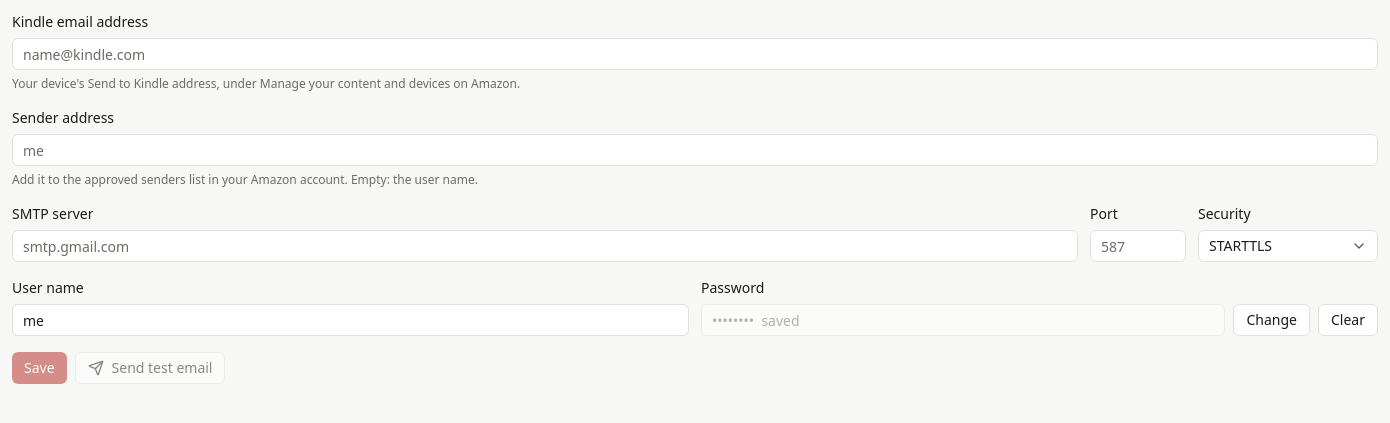
Test: email settings › changes the password through set_smtp_password, never the settings
The width and height of the screenshot is (1390, 423).
Click the button "Change" at (1272, 320), box [1234,304,1310,336]
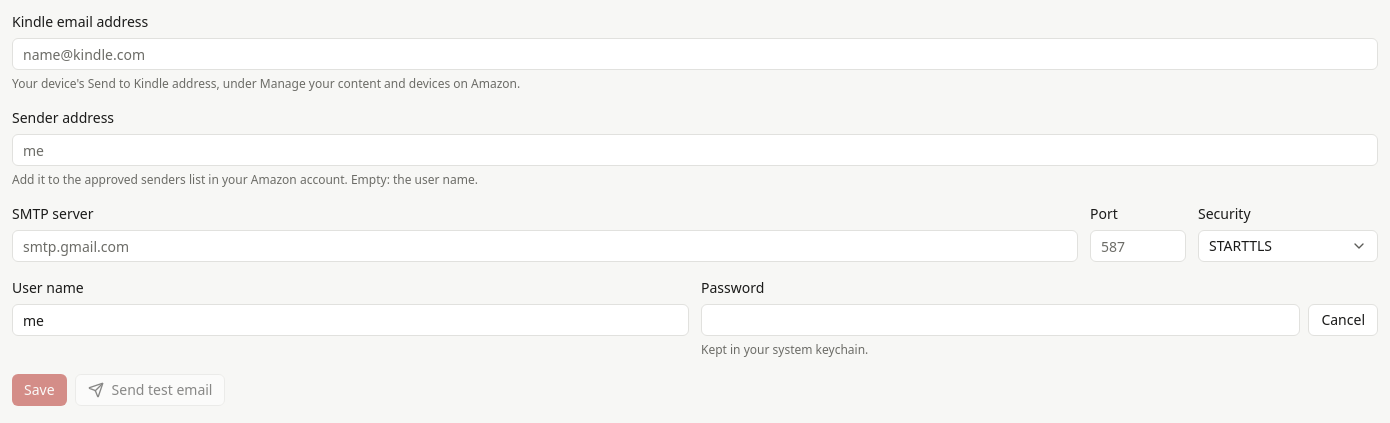
Result: the password field labelled "Password" is enabled
Type "new-secret" into the password field labelled "Password" at (1001, 320), box [701,304,1300,336]
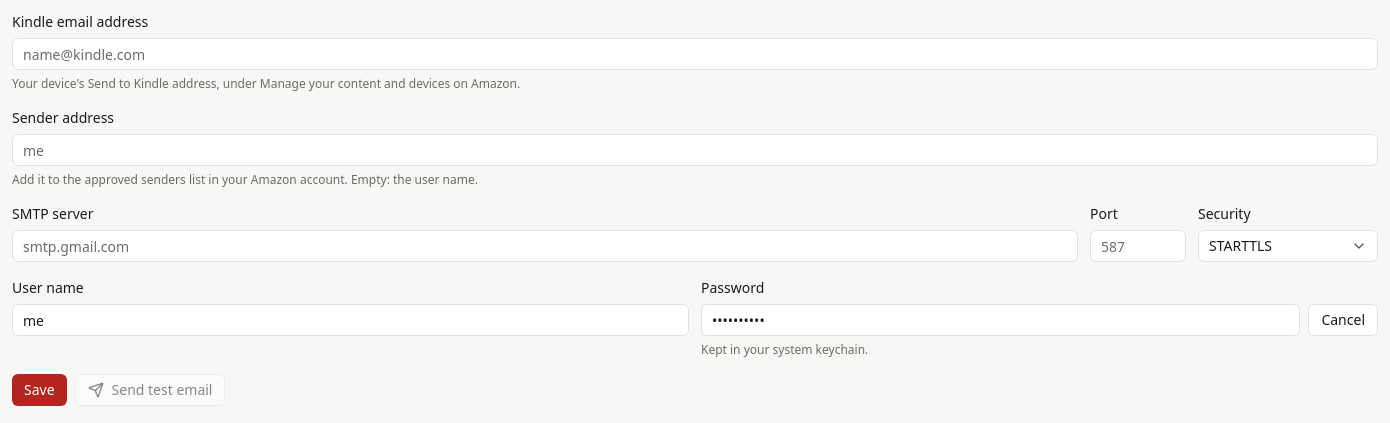
Click the button "Save" at (39, 390), box [12,374,67,406]
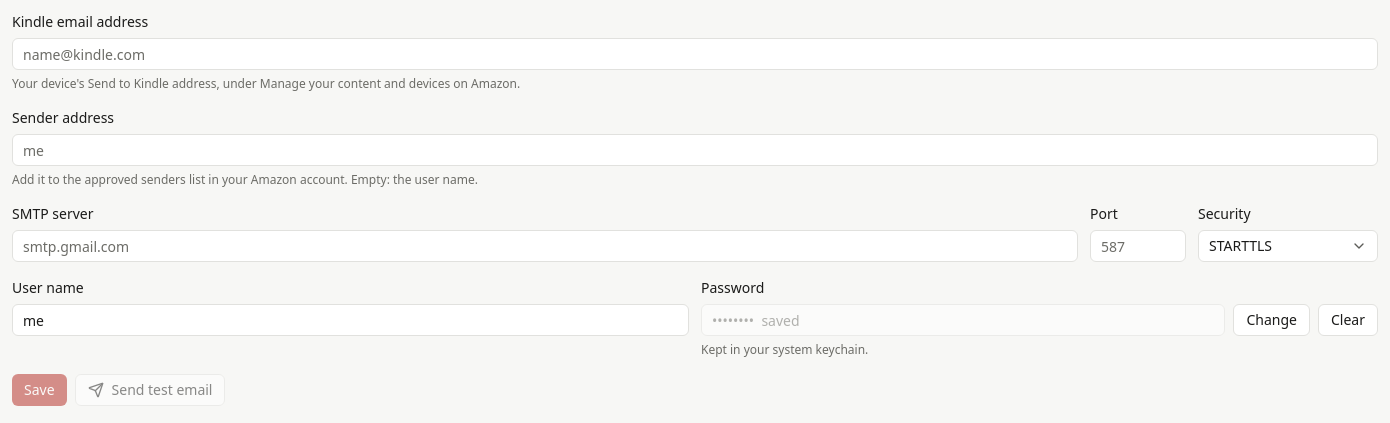
Result: the password field labelled "Password" is disabled at [701,304,1226,336]
